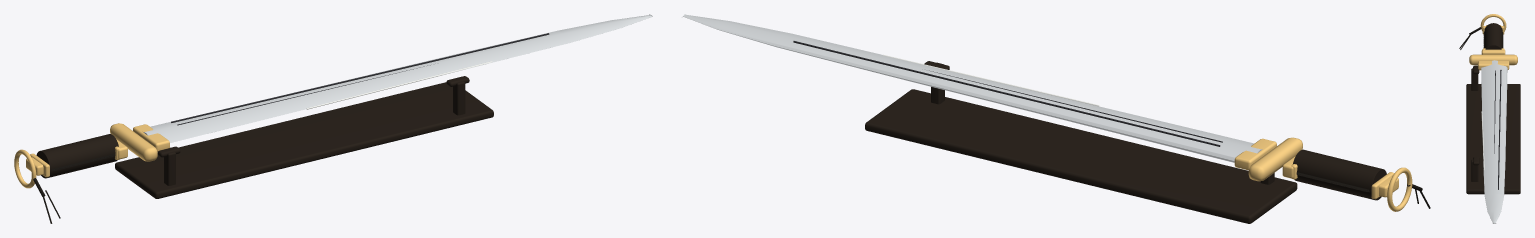
The model's file is tang_dao.glb.
3 renders of one model, left to right at view 1: azimuth 30°, elevation 25°; view 2: azimuth 150°, elevation 25°; view 3: azimuth 270°, elevation 25°, orthographic. The views are drawn at different scales.
Visible parts, largest first — view 1: black display stand base, straight single-edged Tang dao blade, dark lacquered wooden grip core, small oval brass guard, upper shallow fuller groove dark line, blade collar brass habaki, Tang style ring pommel, right display stand upright, continuous sharpened edge highlight, left display stand upright; view 2: black display stand base, straight single-edged Tang dao blade, dark lacquered wooden grip core, small oval brass guard, upper shallow fuller groove dark line, blade collar brass habaki, Tang style ring pommel, lower shallow fuller groove dark line; view 3: straight single-edged Tang dao blade, black display stand base, dark lacquered wooden grip core, small oval brass guard, upper shallow fuller groove dark line, blade collar brass habaki, left display stand upright, right display stand upright, Tang style ring pommel, rear brass ferrule, lower shallow fuller groove dark line, continuous sharpened edge highlight (+3 smaller).
Part boxes in pixels (x1=…): black display stand base: x1=115, y1=82, x2=493, y2=198; straight single-edged Tang dao blade: x1=143, y1=14, x2=652, y2=142; dark lacquered wooden grip core: x1=36, y1=134, x2=118, y2=178; small oval brass guard: x1=110, y1=123, x2=157, y2=161; upper shallow fuller groove dark line: x1=171, y1=33, x2=549, y2=122; blade collar brass habaki: x1=133, y1=124, x2=169, y2=151; Tang style ring pommel: x1=14, y1=149, x2=36, y2=188; right display stand upright: x1=453, y1=81, x2=465, y2=115; continuous sharpened edge highlight: x1=306, y1=61, x2=492, y2=109; left display stand upright: x1=164, y1=152, x2=175, y2=185; black display stand base: x1=865, y1=89, x2=1297, y2=223; straight single-edged Tang dao blade: x1=682, y1=14, x2=1262, y2=162; dark lacquered wooden grip core: x1=1293, y1=149, x2=1386, y2=200; small oval brass guard: x1=1248, y1=137, x2=1302, y2=181; upper shallow fuller groove dark line: x1=793, y1=41, x2=1220, y2=146; blade collar brass habaki: x1=1234, y1=138, x2=1276, y2=170; Tang style ring pommel: x1=1387, y1=167, x2=1412, y2=211; lower shallow fuller groove dark line: x1=929, y1=70, x2=1222, y2=142; straight single-edged Tang dao blade: x1=1481, y1=60, x2=1507, y2=223; black display stand base: x1=1466, y1=84, x2=1520, y2=194; dark lacquered wooden grip core: x1=1484, y1=23, x2=1502, y2=49; small oval brass guard: x1=1469, y1=54, x2=1517, y2=65; upper shallow fuller groove dark line: x1=1498, y1=70, x2=1501, y2=189; blade collar brass habaki: x1=1478, y1=61, x2=1509, y2=70; left display stand upright: x1=1471, y1=68, x2=1478, y2=90; right display stand upright: x1=1471, y1=159, x2=1478, y2=181; Tang style ring pommel: x1=1480, y1=14, x2=1506, y2=31; rear brass ferrule: x1=1481, y1=49, x2=1505, y2=54; lower shallow fuller groove dark line: x1=1494, y1=70, x2=1495, y2=153; continuous sharpened edge highlight: x1=1481, y1=111, x2=1484, y2=170.
Size of the model in its own units: 10.76 by 0.995 by 1.41.
